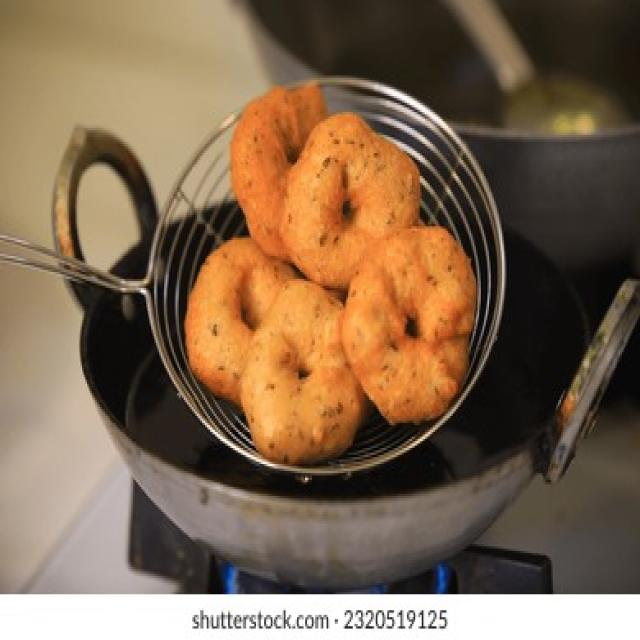MEDU VADA: (345, 229, 479, 422), (283, 110, 425, 281), (242, 276, 362, 459), (233, 74, 325, 266), (189, 240, 296, 402)
